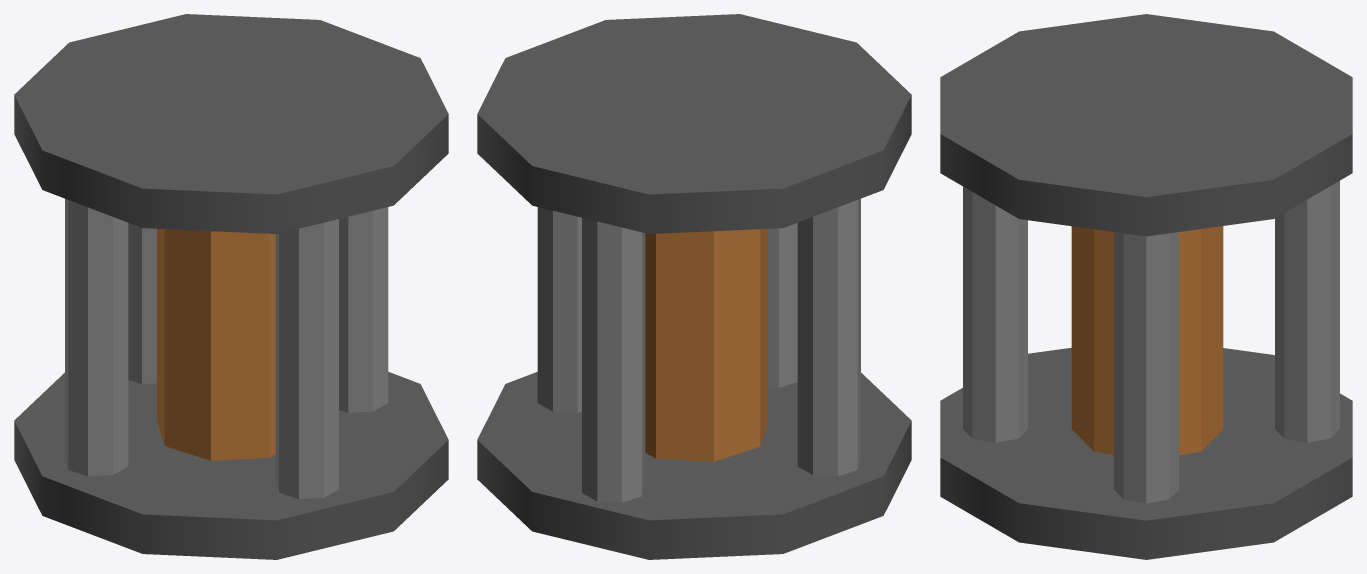
File: RotorSmall.fbx
3 views of the same model, side by side, from view 1: azimuth 30°, elevation 25°; view 2: azimuth 150°, elevation 25°; view 3: azimuth 270°, elevation 25° (orthographic).
Visible parts, largest first — view 1: RotorSmall; view 2: RotorSmall; view 3: RotorSmall.
Part boxes in pixels (box(x1,y1,x2,y2)): RotorSmall: box(14, 14, 448, 559); RotorSmall: box(477, 14, 911, 559); RotorSmall: box(940, 14, 1352, 559).
Bounding box in the file's own units: 20 × 18.46 × 19.02.
